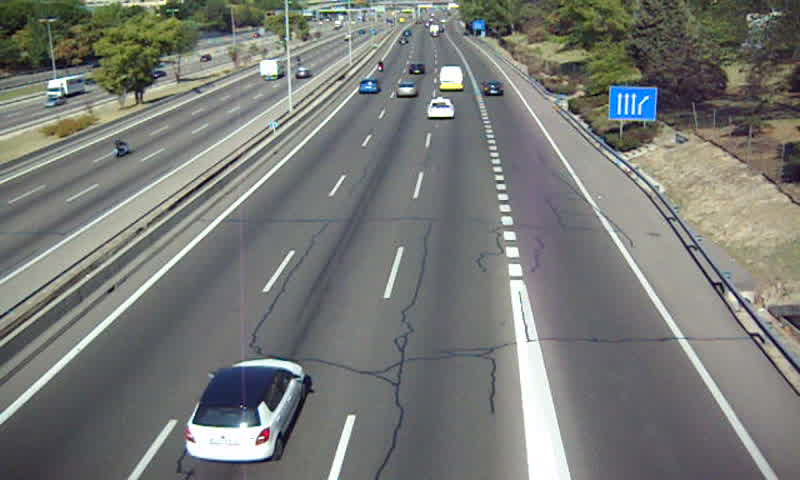car: (184, 359, 304, 461), (425, 98, 456, 120), (395, 83, 417, 100), (481, 81, 504, 97), (359, 79, 378, 96), (407, 62, 426, 74)
van: (437, 67, 464, 92)
